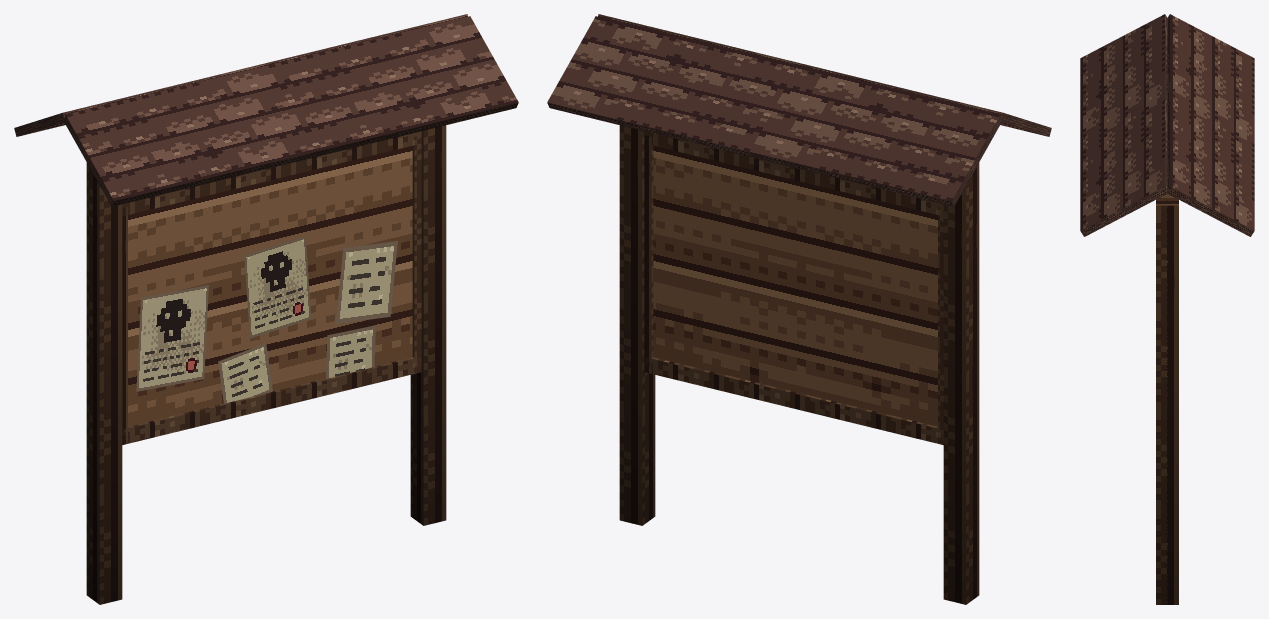
File: notice_board.glb
3 views of the same model, side by side, from view 1: azimuth 30°, elevation 25°; view 2: azimuth 150°, elevation 25°; view 3: azimuth 270°, elevation 25° (orthographic). The views are drawn at different scales.
Parts seen in each view (by area): view 1: notice_board; view 2: notice_board; view 3: notice_board.
Boxes of the visible parts, bbox=[...] form: notice_board: bbox=[14, 14, 518, 604]; notice_board: bbox=[547, 14, 1051, 604]; notice_board: bbox=[1080, 14, 1254, 604].
Size of the model in its own units: 2.5 by 2.91 by 1.07.
5 materials, 5 textured.
